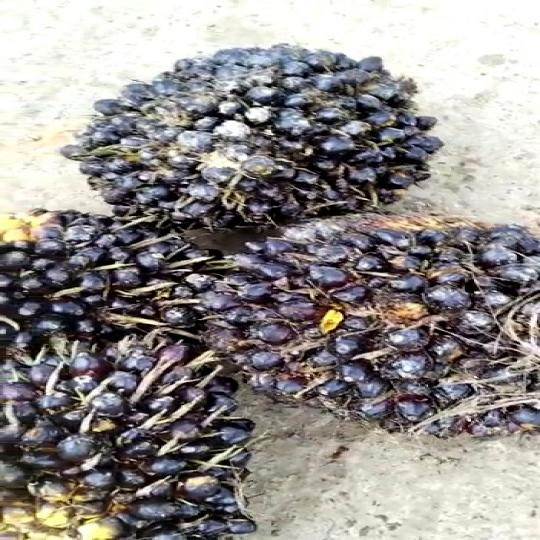mentah: (68, 33, 426, 254), (172, 224, 540, 429), (0, 327, 319, 540), (0, 190, 273, 374)
